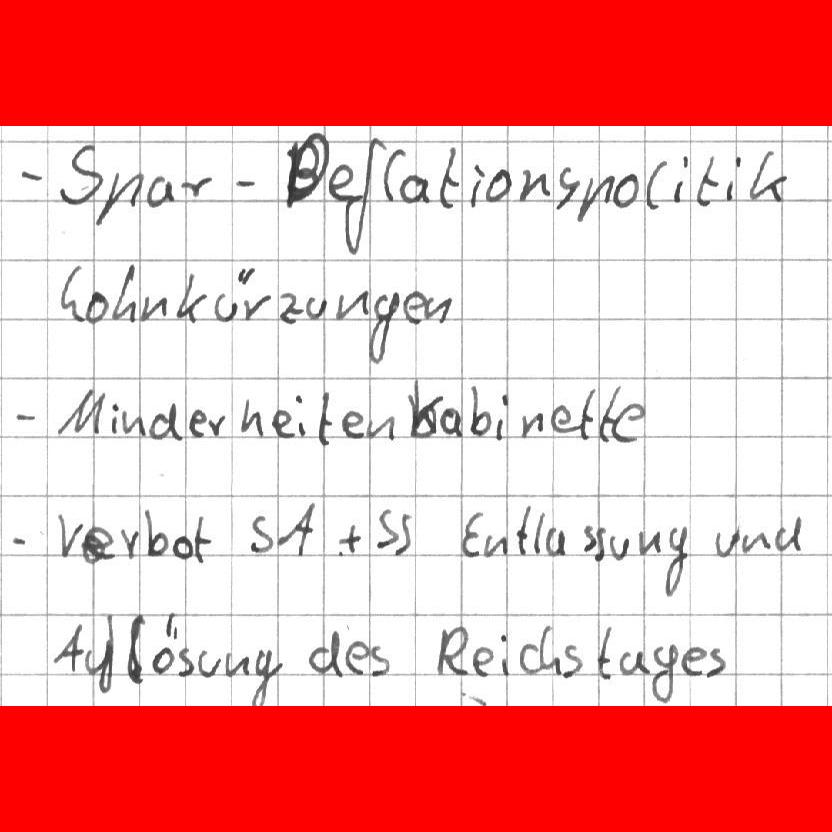Char: (348, 136, 385, 257), (54, 139, 104, 210), (288, 134, 330, 211), (94, 167, 143, 228), (53, 386, 107, 438), (366, 287, 401, 364), (275, 499, 319, 557), (749, 145, 790, 203), (661, 523, 692, 598), (211, 265, 250, 324), (433, 620, 470, 682), (248, 643, 284, 706), (305, 629, 347, 681), (108, 260, 142, 324), (575, 170, 615, 224), (408, 377, 440, 439), (55, 260, 85, 326), (435, 143, 463, 212), (174, 268, 207, 325), (123, 613, 148, 686), (151, 610, 179, 675), (650, 640, 678, 704), (327, 160, 362, 205), (771, 511, 809, 552), (148, 401, 184, 444), (54, 621, 83, 674), (693, 153, 720, 209), (611, 402, 647, 444), (80, 522, 115, 565), (55, 509, 84, 560), (643, 156, 669, 212), (381, 144, 404, 203), (142, 506, 168, 558), (554, 162, 580, 213), (467, 382, 492, 435), (538, 622, 563, 674), (458, 510, 484, 559), (390, 506, 415, 556), (597, 382, 617, 444), (145, 173, 178, 209), (518, 166, 550, 203), (372, 504, 397, 551), (313, 389, 333, 447), (593, 623, 613, 681), (334, 286, 368, 320), (678, 643, 709, 680), (274, 287, 303, 326), (333, 518, 362, 556), (514, 500, 533, 558), (671, 150, 691, 205), (549, 398, 577, 437), (239, 290, 272, 323), (400, 170, 432, 204), (721, 154, 743, 203), (249, 511, 273, 555), (117, 523, 144, 562), (612, 171, 640, 208), (344, 636, 371, 674), (192, 511, 210, 567), (83, 286, 108, 326), (175, 172, 212, 199), (139, 290, 170, 322), (577, 389, 595, 444), (362, 413, 396, 442), (559, 641, 585, 678), (421, 293, 451, 325), (241, 397, 265, 437), (619, 648, 651, 678), (437, 403, 464, 438), (366, 642, 393, 677), (468, 160, 486, 212), (705, 640, 729, 679), (486, 169, 514, 202), (402, 288, 426, 326), (470, 641, 494, 678), (481, 532, 510, 561), (714, 527, 742, 557), (83, 644, 111, 674), (269, 408, 296, 439), (339, 408, 366, 438), (544, 525, 569, 557), (606, 531, 633, 560), (520, 410, 546, 440), (637, 527, 663, 557), (224, 649, 250, 679), (303, 289, 326, 322), (173, 644, 196, 677), (518, 640, 539, 676), (741, 529, 771, 554), (495, 392, 510, 441), (197, 648, 222, 677), (293, 392, 308, 438), (498, 632, 513, 678), (120, 409, 146, 435), (186, 408, 208, 438), (592, 521, 608, 562), (171, 532, 194, 560), (231, 172, 260, 193), (533, 509, 545, 557), (16, 165, 45, 184), (580, 521, 597, 553), (206, 412, 226, 438), (11, 531, 36, 551), (107, 400, 120, 436), (14, 409, 39, 424)
